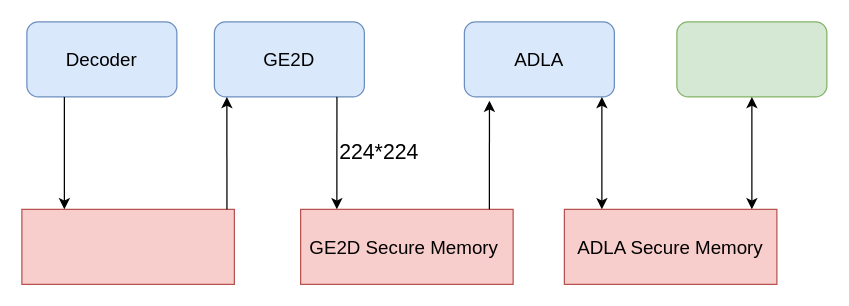
This 849x306 diagram has some shape labels left out. Each missing label, with the centre of its shape:
"ADLA TA" belongs at pixel 751 59.
"Codec Secure Memory" belongs at pixel 127 246.
